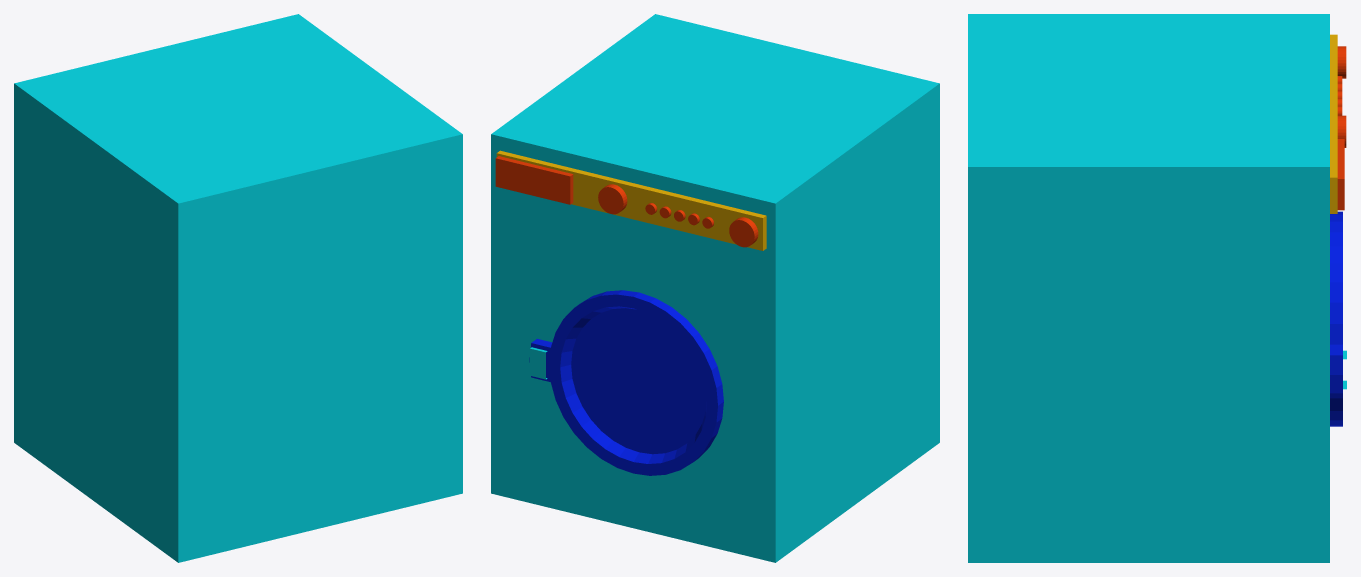
The model's file is WendingMachine.fbx.
3 views of the same model, side by side, from view 1: azimuth 30°, elevation 25°; view 2: azimuth 150°, elevation 25°; view 3: azimuth 270°, elevation 25° (orthographic). The views are drawn at different scales.
Parts seen in each view (by area): view 1: Cube.030; view 2: Cube.030; view 3: Cube.030.
Boxes of the visible parts, left/top/right/bottom form: Cube.030: left=14, top=14, right=462, bottom=562; Cube.030: left=491, top=14, right=939, bottom=562; Cube.030: left=968, top=14, right=1346, bottom=562.
Size of the model in its own units: 20 by 24.14 by 20.94.
